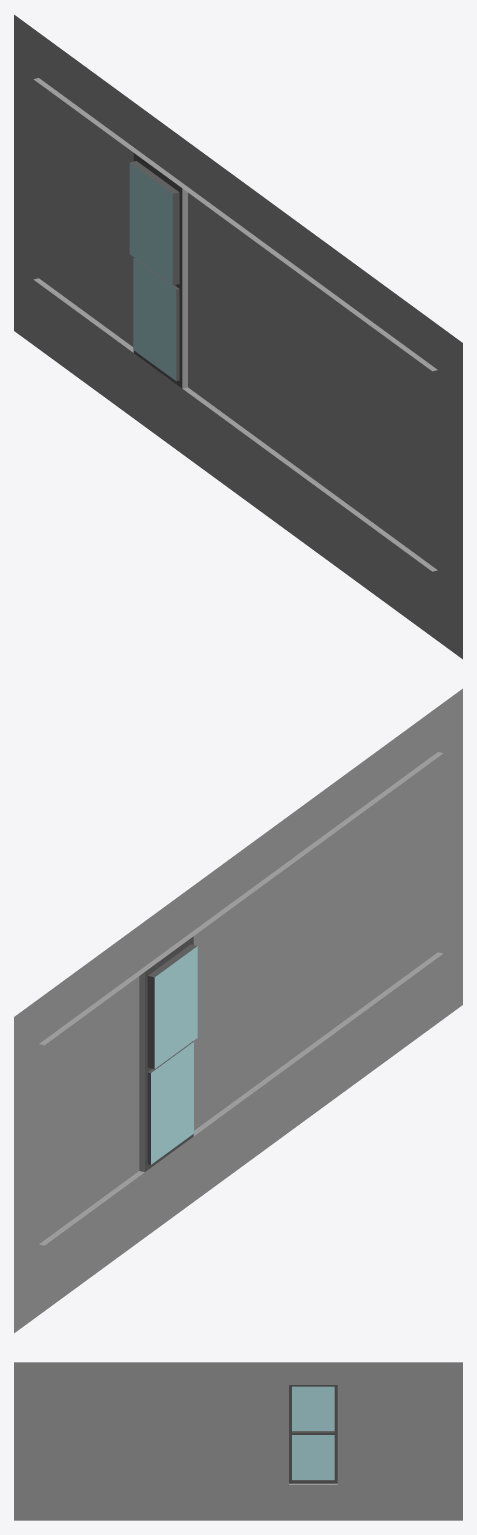
File: SmallWindowSideR.fbx
3 views of the same model, one above another, from view 1: azimuth 30°, elevation 25°; view 2: azimuth 150°, elevation 25°; view 3: azimuth 270°, elevation 25° (orthographic). The views are drawn at different scales.
Parts seen in each view (by area): view 1: SmallWindowSideR; view 2: SmallWindowSideR; view 3: SmallWindowSideR.
Part boxes in pixels (x1,y1,x2,y2): SmallWindowSideR: (14,14,462,659); SmallWindowSideR: (14,688,462,1333); SmallWindowSideR: (14,1362,462,1520).
Size of the model in its own units: 14.4 by 350 by 900.
